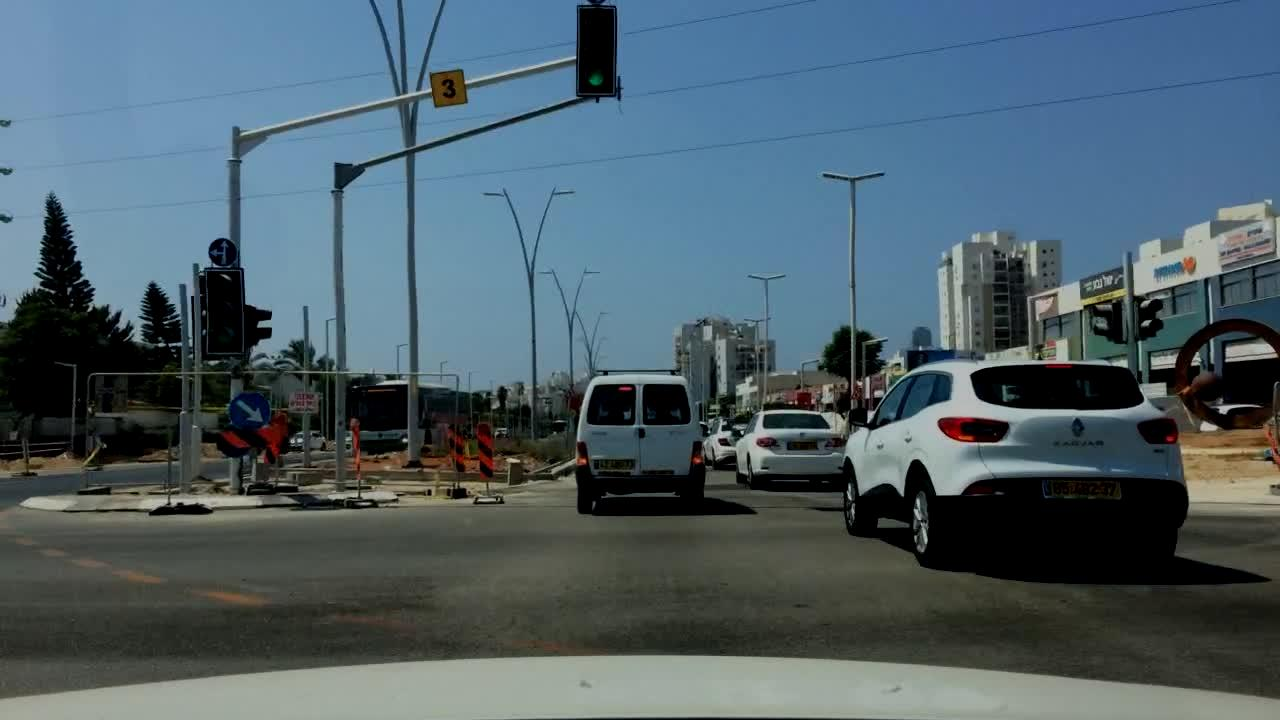Renault: (1069, 413, 1087, 444)
